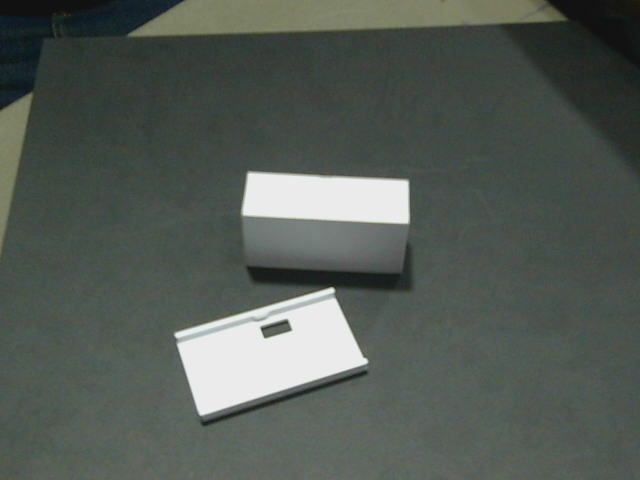enclosure_defective: (176, 288, 367, 415), (242, 172, 409, 224)
